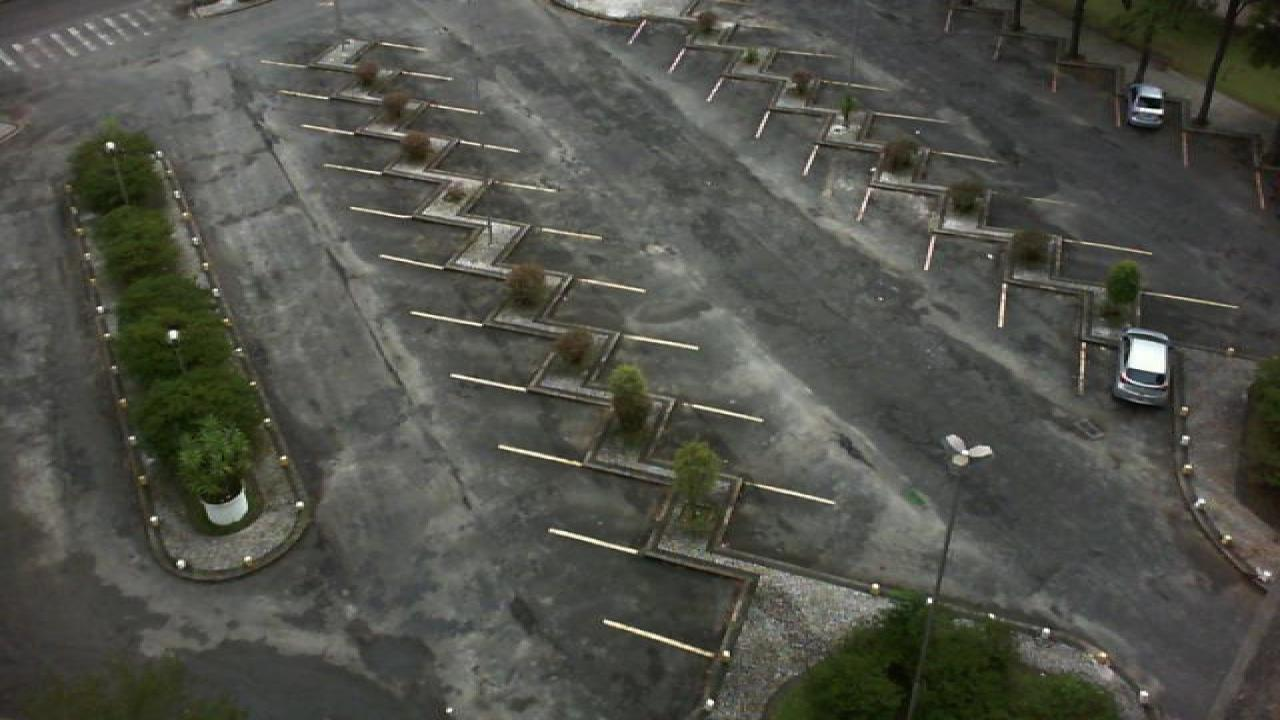Car: (1114, 327, 1172, 408), (1124, 81, 1166, 131)
